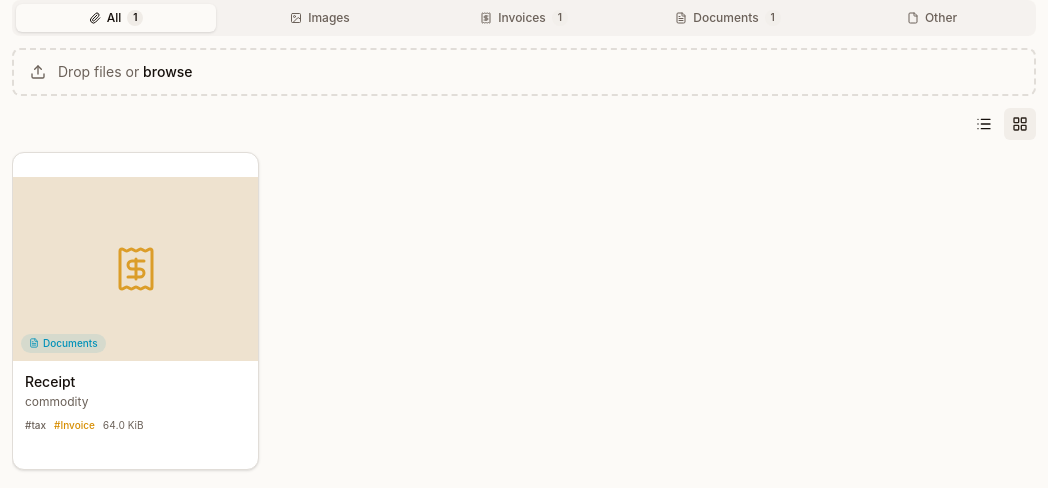
Test case: <CommodityFilesTab /> › renders the chip-aware empty state when no files match the active chip
What coordinates should you click on to do the following:
click the tab with test id "commodity-files-chip-images"
I would click on:
 (320, 18)
Its box is [220,4,420,32].
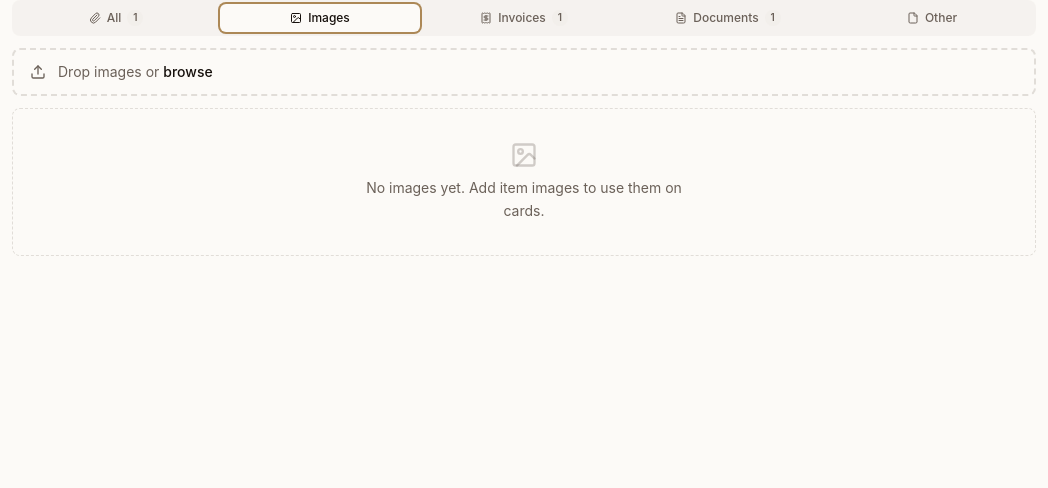
expect the element with test id "commodity-files-empty" shows "No images yet": met, box [366,179,682,219]
